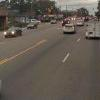Car: (61, 20, 77, 35)
